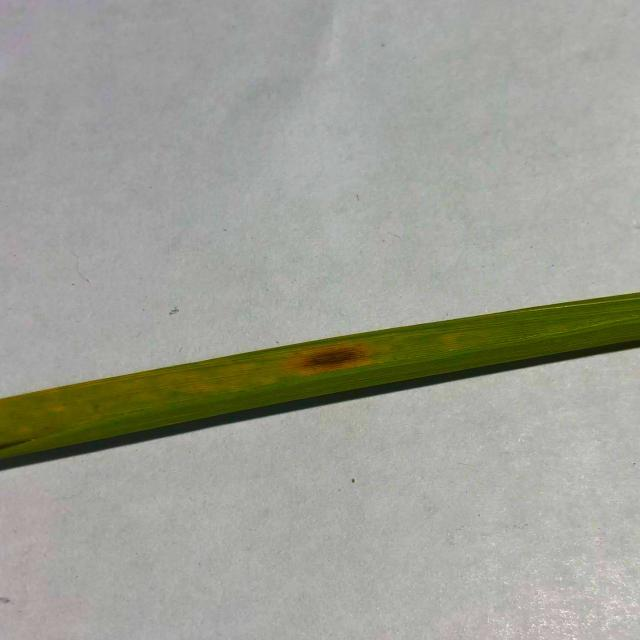brownspots: (293, 337, 372, 382)
